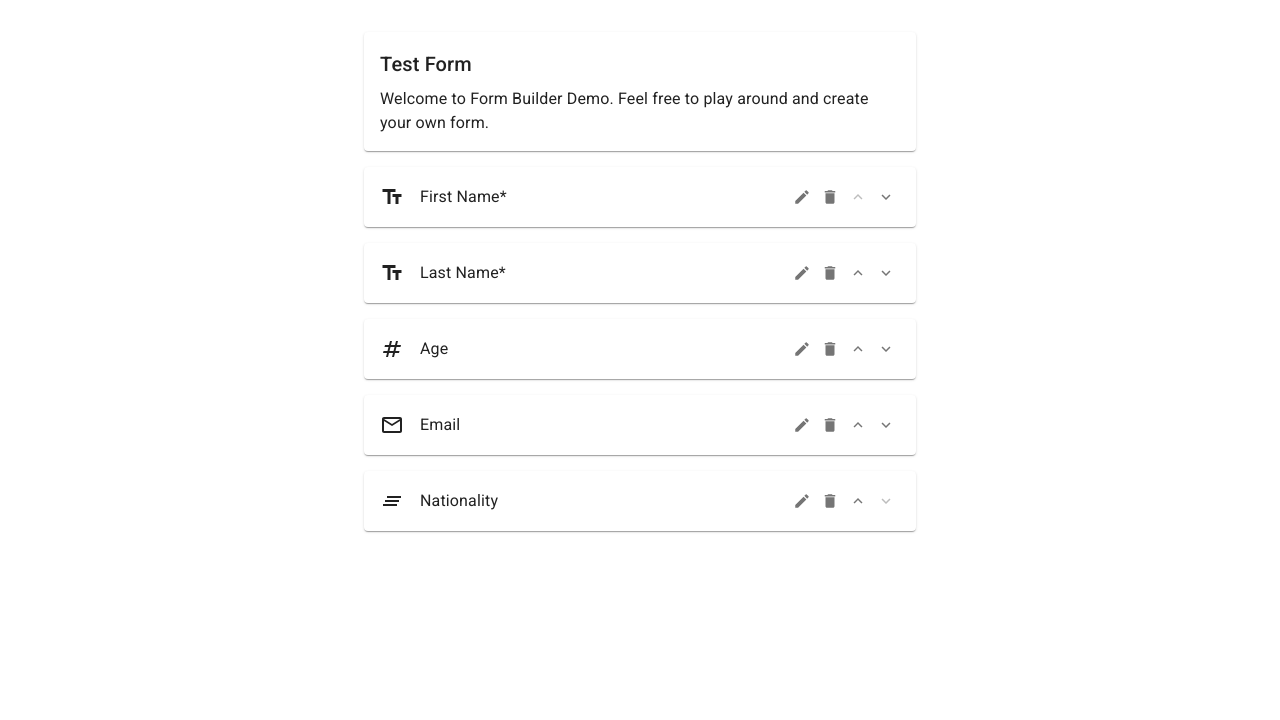
Test: EditorContent › should open form settings dialog when form title action area is clicked
What coordinates should you click on to do the following:
click the button with test id "form-title-action-area"
I would click on:
 (640, 92)
Its box is [364,32,916,151].
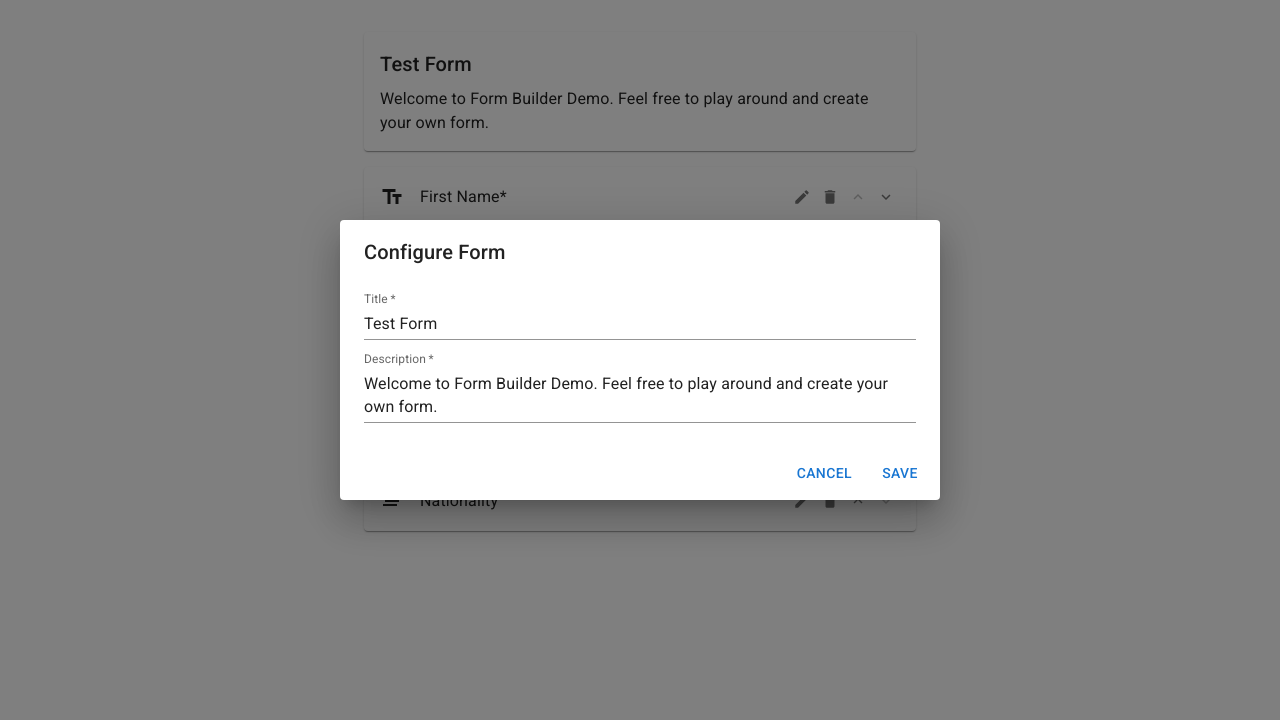
expect the heading "Configure Form" is shown: met, box [364,240,506,264]
